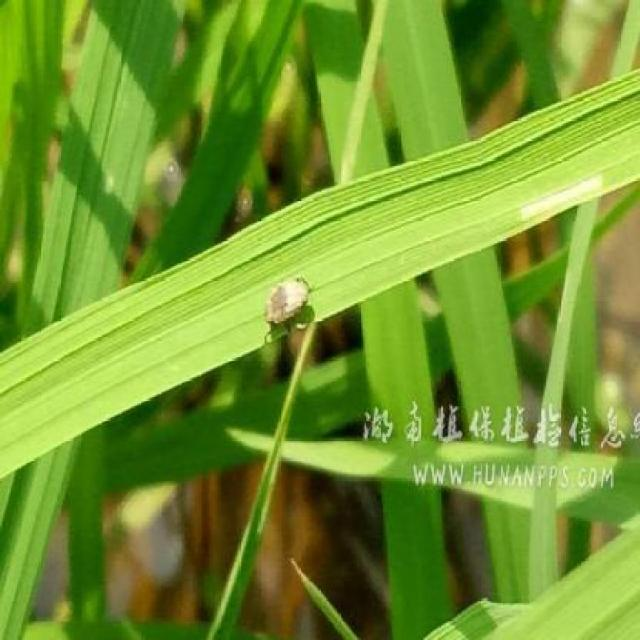rice-bug: (264, 271, 314, 337)
